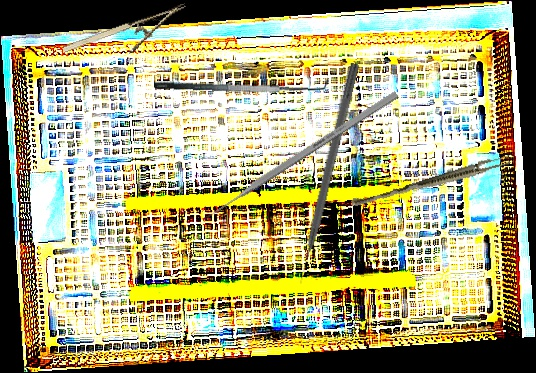Needle Holder: (60, 3, 195, 73)
Pusher: (201, 90, 399, 223), (292, 61, 361, 286)
Spatula Surgical: (153, 66, 329, 99)
Tissue Forceps: (350, 151, 512, 213)
